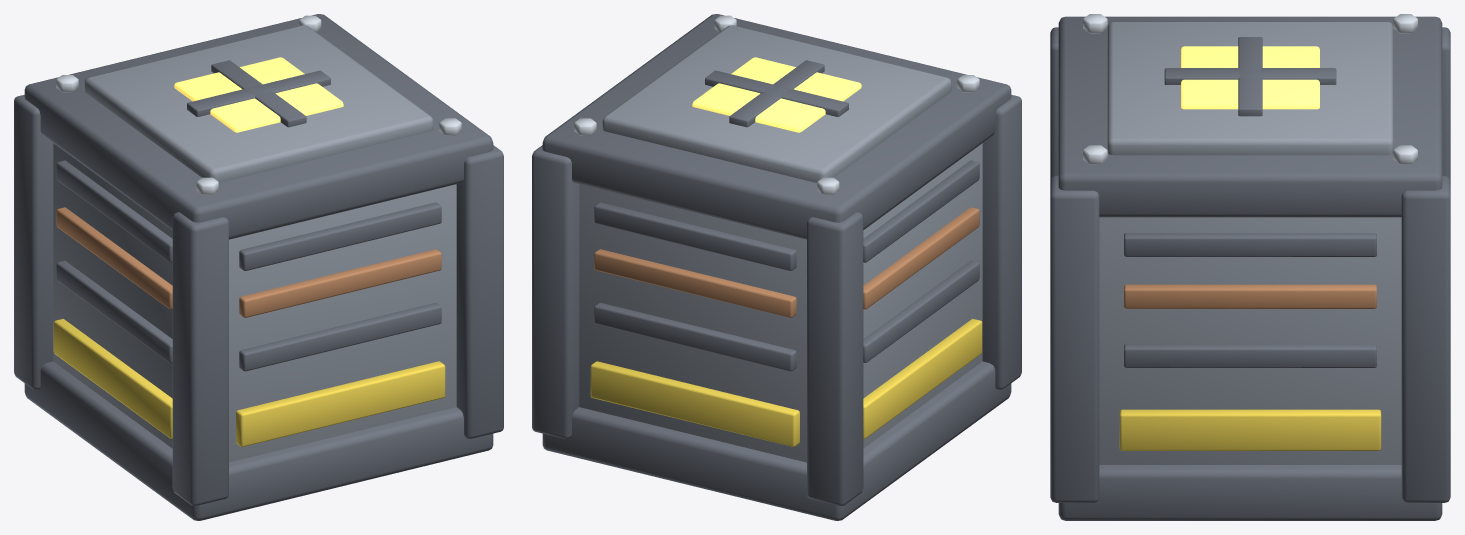
File: foundry_crate.glb
The picture shows the model from 3 angles, left to right: view 1: azimuth 30°, elevation 25°; view 2: azimuth 150°, elevation 25°; view 3: azimuth 270°, elevation 25°; orthographic projection. The views are drawn at different scales.
Visible parts, largest first — view 1: FoundrySupplyCrate; view 2: FoundrySupplyCrate; view 3: FoundrySupplyCrate.
Boxes of the visible parts, x1,y1,x2,y2 form: FoundrySupplyCrate: (14,14,503,520); FoundrySupplyCrate: (532,14,1021,520); FoundrySupplyCrate: (1050,14,1450,520).
Size of the model in its own units: 0.98 by 1 by 0.98.
